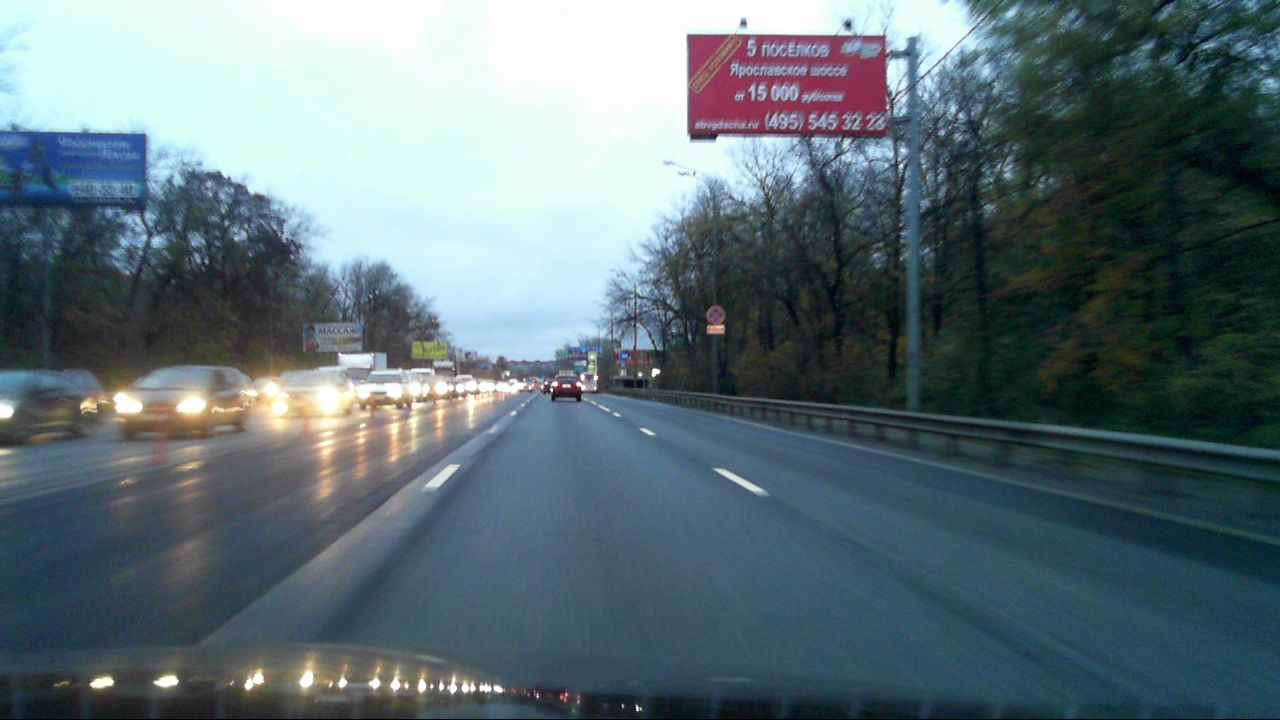No Parking: (706, 305, 725, 324)
